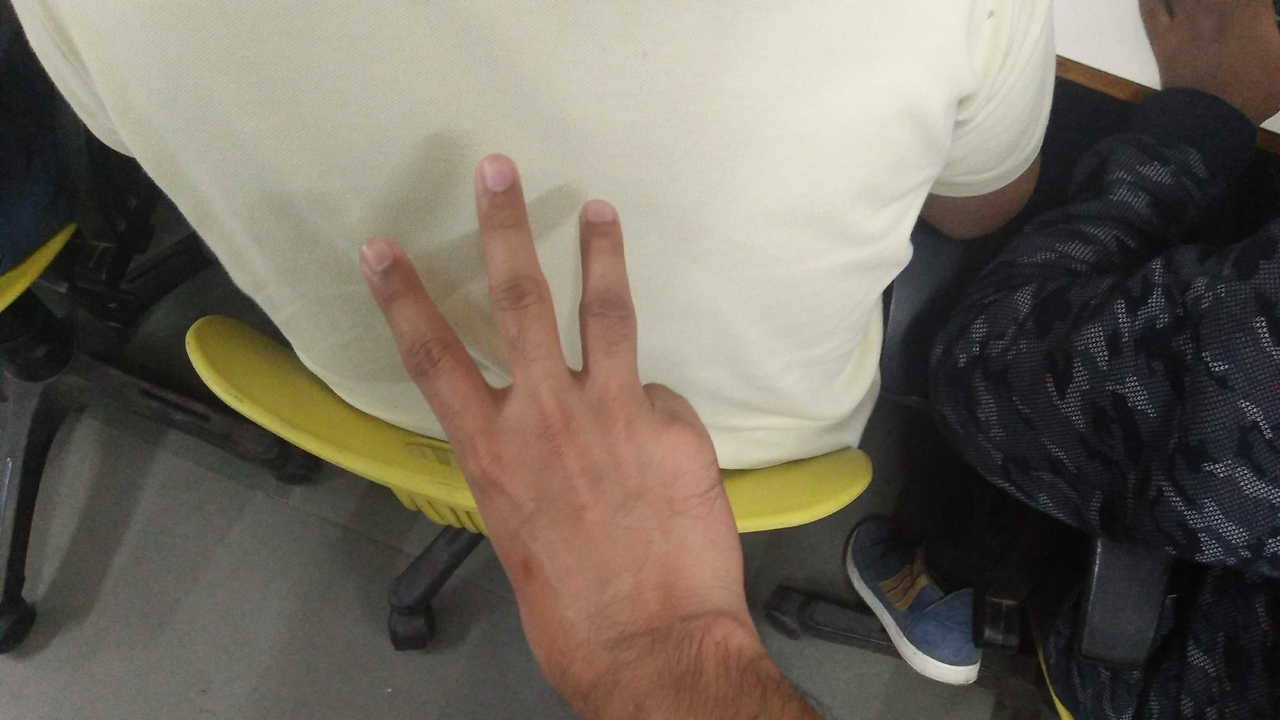fingertip: (348, 228, 412, 288), (570, 188, 626, 244), (468, 148, 524, 200)
